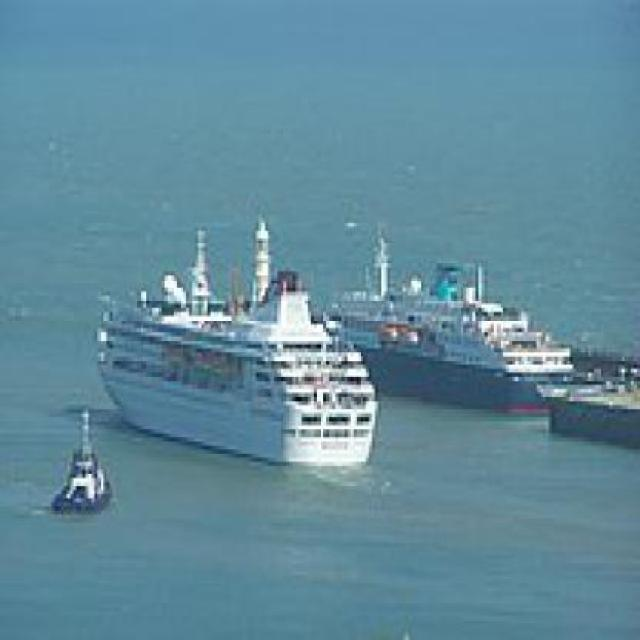cruise: (77, 195, 394, 479), (327, 232, 586, 430)
